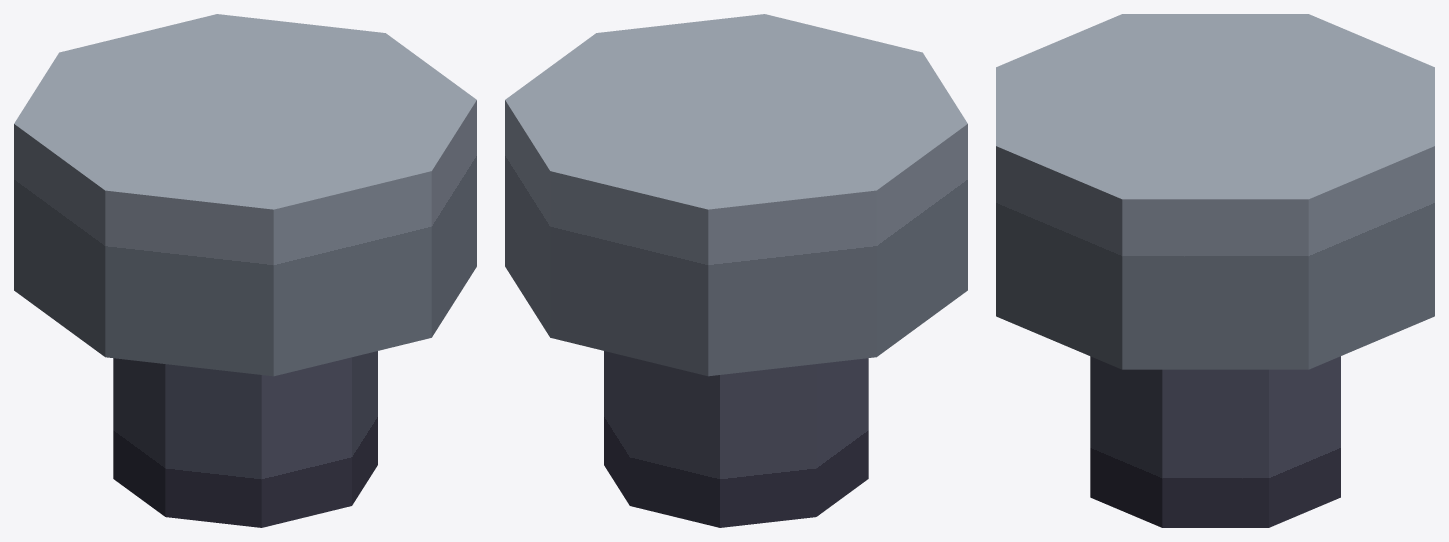
The model's file is 22_air_vent.obj.
3 renders of one model, left to right at view 1: azimuth 30°, elevation 25°; view 2: azimuth 150°, elevation 25°; view 3: azimuth 270°, elevation 25°, orthographic. The views are drawn at different scales.
Visible parts, largest first — view 1: cube; view 2: cube; view 3: cube.
Boxes of the visible parts, x1,y1,x2,y2 form: cube: (14, 14, 476, 527); cube: (505, 14, 967, 527); cube: (996, 14, 1434, 527).
Bounding box in the file's own units: 0.4375 × 0.4052 × 0.4375.
